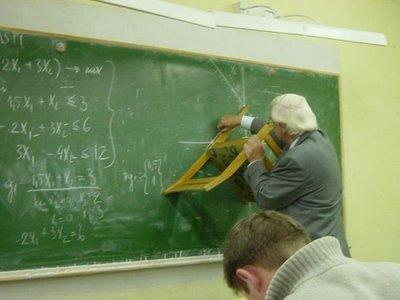person: (217, 93, 350, 260)
